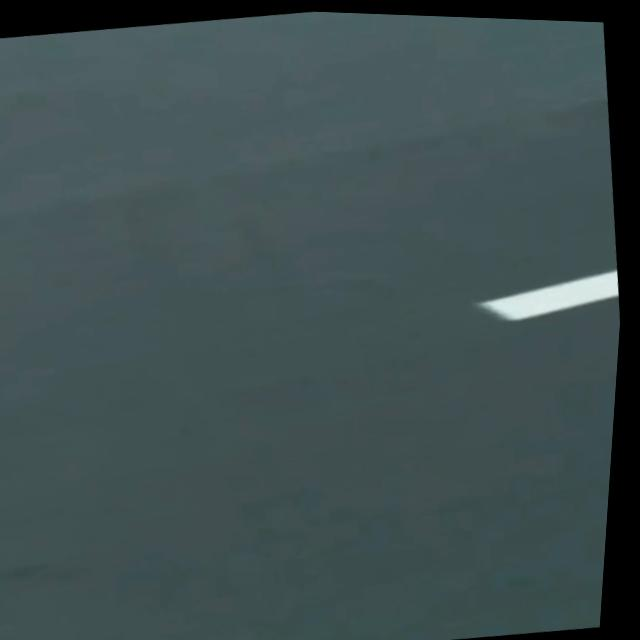center: (477, 268, 618, 318)
